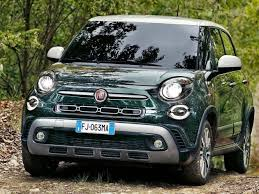car: (21, 16, 251, 181)
